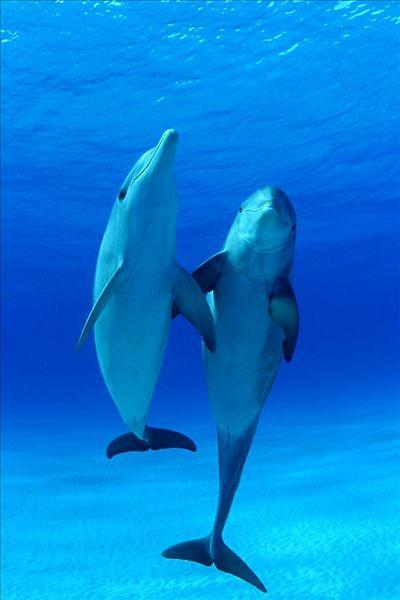fish: (156, 187, 326, 595), (73, 127, 217, 459)
